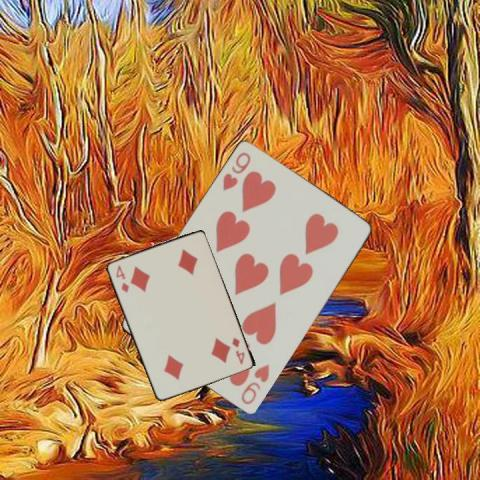4d: (113, 262, 130, 294), (229, 334, 246, 366)
9h: (237, 361, 271, 407), (219, 149, 253, 193)
